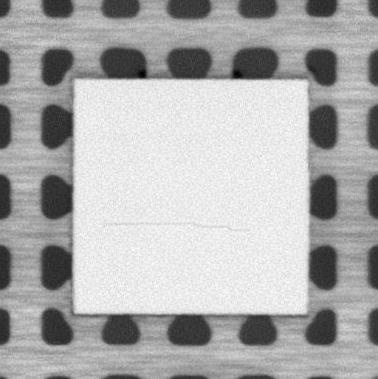DIE_CRACK: (104, 219, 249, 233)
